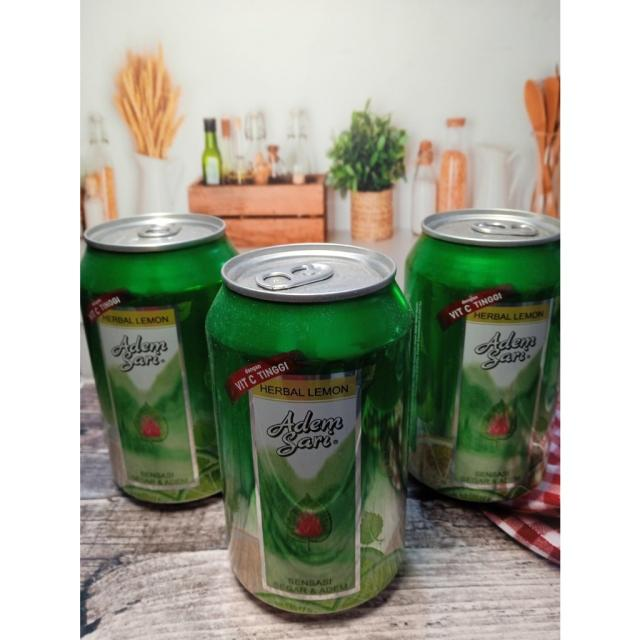ademsarikaleng: (203, 241, 416, 617), (79, 211, 240, 509), (403, 207, 561, 504)
